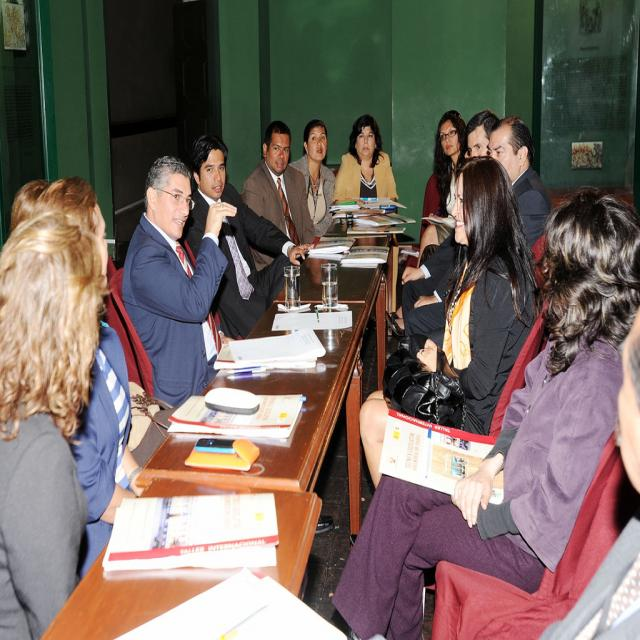chair: (428, 311, 639, 633), (108, 267, 154, 397)
desk: (39, 474, 322, 639)
person: (332, 189, 638, 633), (356, 156, 541, 501), (0, 212, 102, 638), (32, 178, 146, 530), (122, 154, 232, 408), (183, 133, 310, 340), (241, 121, 315, 258), (489, 114, 553, 250), (419, 109, 468, 256), (333, 114, 398, 204), (289, 118, 337, 239), (465, 108, 500, 160)
